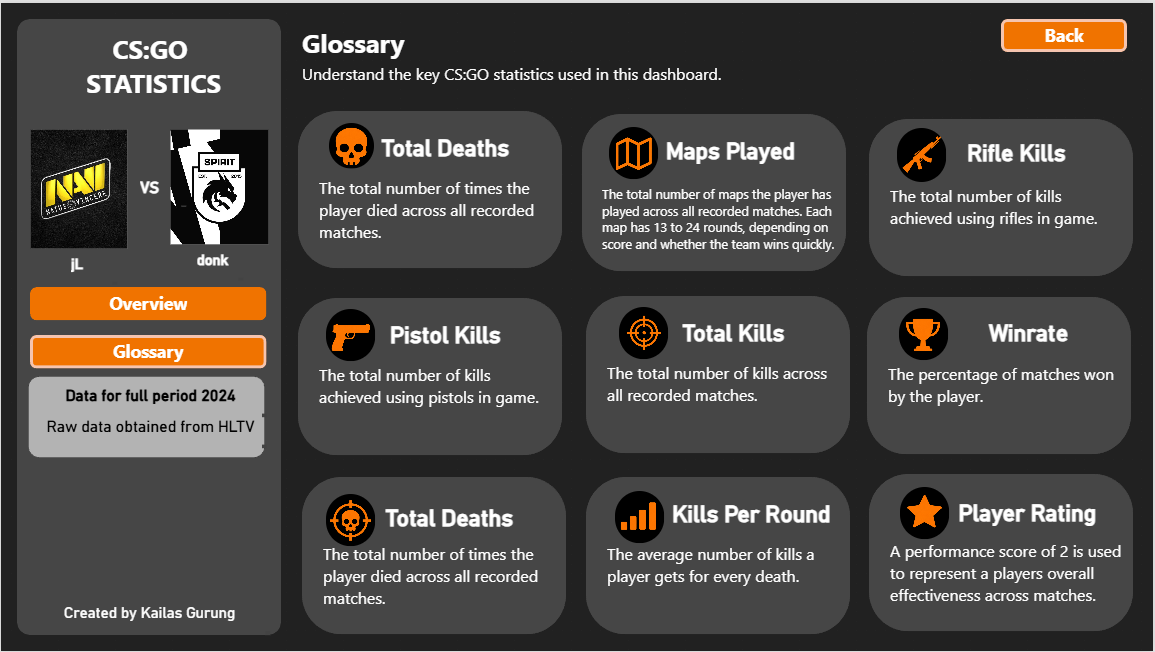

This screenshot's page, from the dashboard's own definition file:
{"tool":"powerbi","page":{"name":"Glossary","canvas":[1920,1080],"ordinal":1},"visuals":[{"type":"shape","box":[26.7,26.7,440,1026.7],"z":0},{"type":"textbox","box":[501.7,36.7,458.3,63.3],"z":1000},{"type":"shape","box":[495,180.8,440,262],"z":2000,"group":"g1"},{"type":"shape","box":[968.8,185.5,440,262],"z":2000},{"type":"textbox","box":[547,218.8,388,76],"z":3000,"group":"g1"},{"type":"textbox","box":[1001.2,302.9,393.3,123.3],"z":3000},{"type":"textbox","box":[53.3,46.7,401.7,145],"z":4000},{"type":"image","box":[547,201.5,75.3,76],"z":4000,"group":"g1"},{"type":"textbox","box":[530.7,291.5,393.3,123.3],"z":5000,"group":"g1"},{"type":"actionButton","box":[48.3,473.1,394.3,55.7],"z":5000},{"type":"image","box":[48.3,210,163.3,200],"z":6000},{"type":"shape","box":[495,491.3,440,262],"z":6000,"group":"g4"},{"type":"image","box":[281.7,210,165,193.3],"z":7000},{"type":"textbox","box":[547,529.3,388,76],"z":7000,"group":"g4"},{"type":"textbox","title":"VS","box":[231.7,291.7,76.7,48.3],"z":8000},{"type":"textbox","box":[530.7,602,393.3,123.3],"z":8000,"group":"g4"},{"type":"shape","box":[45,621.7,395,136.7],"z":9000},{"type":"shape","box":[501,789.3,440,262],"z":9000,"group":"g7"},{"type":"textbox","title":"Data for full period 2024","box":[55,638.3,388.3,51.7],"z":10000},{"type":"textbox","box":[553.3,835,388,76],"z":10000,"group":"g7"},{"type":"textbox","title":"Raw data obtained from HLTV","box":[55,690,388.3,51.7],"z":11000},{"type":"textbox","box":[536.7,900,393.3,123.3],"z":11000,"group":"g7"},{"type":"shape","box":[975.2,789.8,440,262],"z":12000,"group":"g8"},{"type":"textbox","title":"Created by Kailas Gurung","box":[46.7,1001.7,401.7,51.7],"z":12000},{"type":"textbox","title":"jL","box":[116.7,421.7,76.7,48.3],"z":13000},{"type":"textbox","box":[1057.5,828.8,388,76],"z":13000,"group":"g8"},{"type":"textbox","title":"donk","box":[326.7,415,76.7,48.3],"z":14000},{"type":"textbox","box":[1010.9,900.5,393.3,123.3],"z":14000,"group":"g8"},{"type":"actionButton","box":[48.3,553.3,394.3,55.7],"z":15000},{"type":"group","id":"g1","title":"Group 1","box":[495,180.8,440,262],"z":16000},{"type":"textbox","box":[1020.8,223.5,388,76],"z":16000,"group":"g2"},{"type":"group","id":"g2","title":"Group 2","box":[1012.8,206.2,396,93.3],"z":17000},{"type":"group","id":"g3","title":"Group 3","box":[1446.6,193,440.3,262],"z":18000},{"type":"shape","box":[1446.6,193,440,262],"z":18000,"group":"g3"},{"type":"textbox","box":[1498.9,227,388,76],"z":19000,"group":"g3"},{"type":"group","id":"g4","title":"Group 4","box":[495,491.3,440,262],"z":19000},{"type":"textbox","box":[1482.3,303.7,393.3,123.3],"z":20000,"group":"g3"},{"type":"group","id":"g5","title":"Group 5","box":[975,488,440,262],"z":20000},{"type":"group","id":"g6","title":"Group 6","box":[1442.8,489.5,463.7,262],"z":21000},{"type":"shape","box":[1442.8,489.5,440,262],"z":21000,"group":"g6"},{"type":"textbox","box":[1518.5,526.8,388,76],"z":22000,"group":"g6"},{"type":"group","id":"g7","title":"Group 7","box":[501,789.3,440.3,262],"z":22000},{"type":"textbox","box":[1478.5,600.2,393.3,123.3],"z":23000,"group":"g6"},{"type":"group","id":"g8","title":"Group 8","box":[975.2,789.8,470.3,262],"z":23000},{"type":"group","id":"g9","title":"Group 9","box":[1447.3,785,458.7,262],"z":24000},{"type":"shape","box":[1447.3,785,440,262],"z":24000,"group":"g9"},{"type":"textbox","box":[501.7,100,1191.7,61.7],"z":25000},{"type":"textbox","box":[1518,827.3,388,76],"z":25000,"group":"g9"},{"type":"actionButton","box":[1666.7,26.7,210,55],"z":25001},{"type":"textbox","box":[1483,895.7,393.3,123.3],"z":26000,"group":"g9"},{"type":"shape","box":[975,488,440,262],"z":27000,"group":"g5"},{"type":"textbox","box":[1027,526,388,76],"z":28000,"group":"g5"},{"type":"textbox","box":[1010.7,598.7,393.3,123.3],"z":29000,"group":"g5"},{"type":"image","box":[542.3,510.3,81.7,86.7],"z":30000,"group":"g4"},{"type":"image","box":[541.7,818.3,81.7,86.7],"z":31000,"group":"g7"},{"type":"image","box":[1024.2,813.8,81.7,86.7],"z":32000,"group":"g8"},{"type":"image","box":[1030.7,507,81.7,86.7],"z":33000,"group":"g5"},{"type":"image","box":[1012.8,206.2,81.7,86.7],"z":34000,"group":"g2"},{"type":"image","box":[1493.9,208.7,81.7,90],"z":35000,"group":"g3"},{"type":"image","box":[1496.8,508.5,81.7,86.7],"z":36000,"group":"g6"},{"type":"image","box":[1499.6,807.3,81.7,86.7],"z":37000,"group":"g9"}]}

Visuals, with their boxes in screenshot pixels (x1, y1, x2, y2), scaled from the page's 1920x1080 canvas onto the 1155x652 screenshot:
shape: bbox=[16, 16, 281, 636]
textbox: bbox=[302, 22, 578, 60]
shape: bbox=[298, 109, 562, 267]
shape: bbox=[583, 112, 847, 270]
textbox: bbox=[329, 132, 562, 178]
textbox: bbox=[602, 183, 839, 257]
textbox: bbox=[32, 28, 274, 116]
image: bbox=[329, 122, 374, 168]
textbox: bbox=[319, 176, 556, 250]
actionButton: bbox=[29, 286, 266, 319]
image: bbox=[29, 127, 127, 248]
shape: bbox=[298, 297, 562, 455]
image: bbox=[169, 127, 269, 243]
textbox: bbox=[329, 320, 562, 365]
"VS" textbox: bbox=[139, 176, 186, 205]
textbox: bbox=[319, 363, 556, 438]
shape: bbox=[27, 375, 265, 458]
shape: bbox=[301, 477, 566, 635]
"Data for full period 2024" textbox: bbox=[33, 385, 267, 417]
textbox: bbox=[333, 504, 566, 550]
"Raw data obtained from HLTV" textbox: bbox=[33, 417, 267, 448]
textbox: bbox=[323, 543, 559, 618]
shape: bbox=[587, 477, 851, 635]
"Created by Kailas Gurung" textbox: bbox=[28, 605, 270, 636]
"jL" textbox: bbox=[70, 255, 116, 284]
textbox: bbox=[636, 500, 870, 546]
"donk" textbox: bbox=[197, 251, 243, 280]
textbox: bbox=[608, 544, 845, 618]
actionButton: bbox=[29, 334, 266, 368]
"Group 1" group: bbox=[298, 109, 562, 267]
textbox: bbox=[614, 135, 847, 181]
"Group 2" group: bbox=[609, 124, 847, 181]
"Group 3" group: bbox=[870, 117, 1135, 275]
shape: bbox=[870, 117, 1135, 275]
textbox: bbox=[902, 137, 1135, 183]
"Group 4" group: bbox=[298, 297, 562, 455]
textbox: bbox=[892, 183, 1128, 258]
"Group 5" group: bbox=[587, 295, 851, 453]
"Group 6" group: bbox=[868, 296, 1147, 454]
shape: bbox=[868, 296, 1133, 454]
textbox: bbox=[913, 318, 1147, 364]
"Group 7" group: bbox=[301, 477, 566, 635]
textbox: bbox=[889, 362, 1126, 437]
"Group 8" group: bbox=[587, 477, 870, 635]
"Group 9" group: bbox=[871, 474, 1147, 632]
shape: bbox=[871, 474, 1135, 632]
textbox: bbox=[302, 60, 1019, 98]
textbox: bbox=[913, 499, 1147, 545]
actionButton: bbox=[1003, 16, 1129, 49]
textbox: bbox=[892, 541, 1129, 615]
shape: bbox=[587, 295, 851, 453]
textbox: bbox=[618, 318, 851, 363]
textbox: bbox=[608, 361, 845, 436]
image: bbox=[326, 308, 375, 360]
image: bbox=[326, 494, 375, 546]
image: bbox=[616, 491, 665, 544]
image: bbox=[620, 306, 669, 358]
image: bbox=[609, 124, 658, 177]
image: bbox=[899, 126, 948, 180]
image: bbox=[900, 307, 950, 359]
image: bbox=[902, 487, 951, 540]
